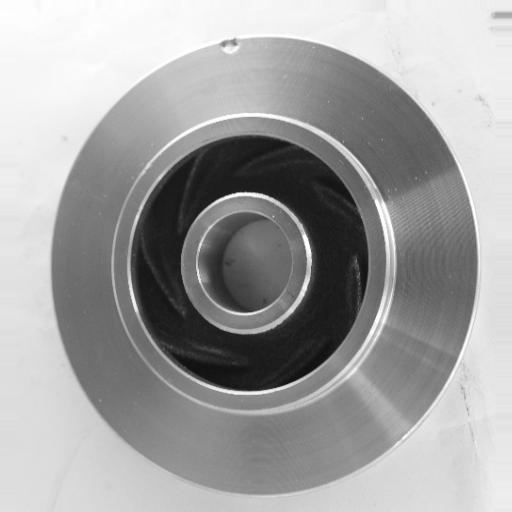crack: (214, 31, 250, 58)
unpolished_casting: (48, 31, 477, 498)
